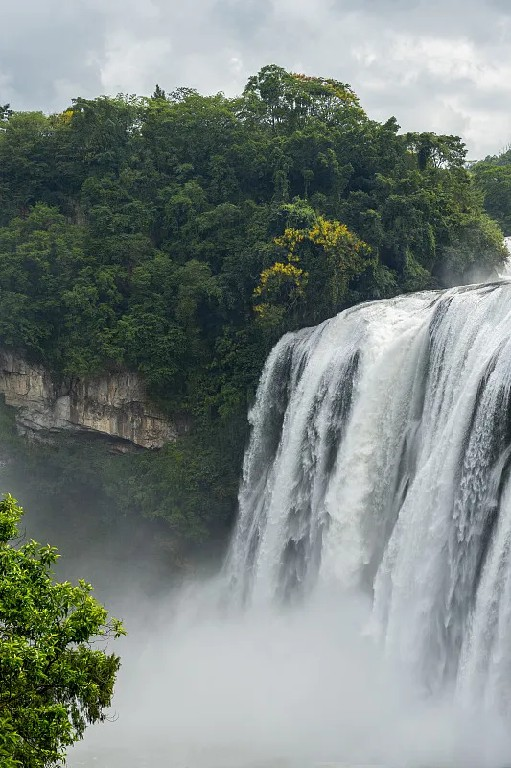Huangguoshu: (234, 284, 511, 720)
